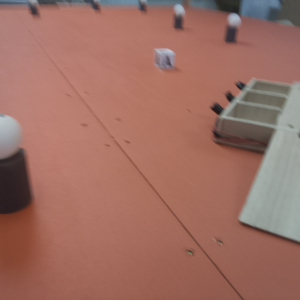blockA: (156, 47, 176, 72)
obstacle: (1, 105, 33, 218), (226, 13, 243, 44), (170, 3, 188, 32), (24, 1, 42, 17), (138, 1, 150, 15), (88, 1, 102, 12)
side: (218, 74, 278, 137)
slope: (243, 154, 300, 236)
